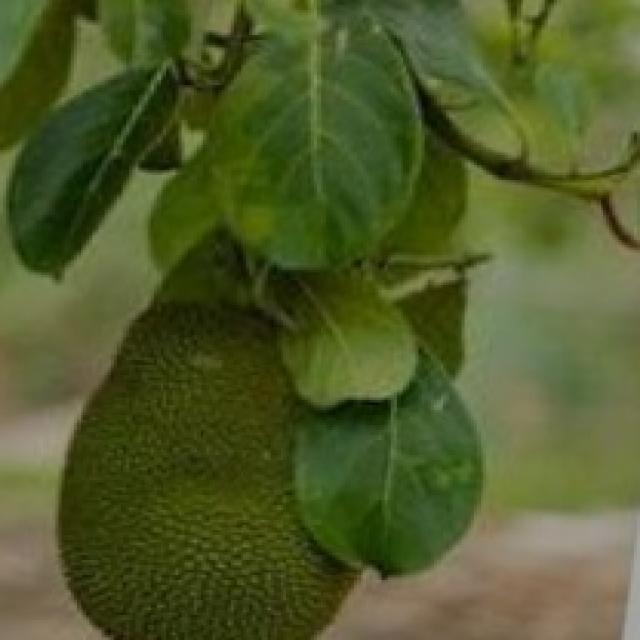Fruit: (16, 270, 370, 640)
